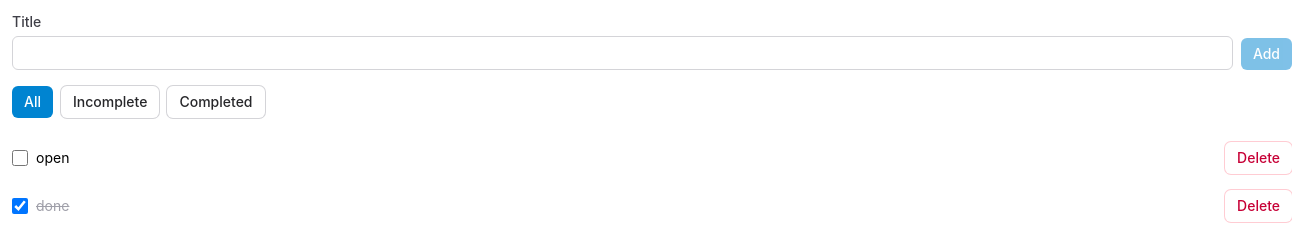
Test: TodoList › filters incomplete items
The image size is (1304, 240).
Expected: the checkbox labelled "open" is shown, [12,150,28,166]
Click the button "Incomplete": (110, 102) [61,86,160,118]
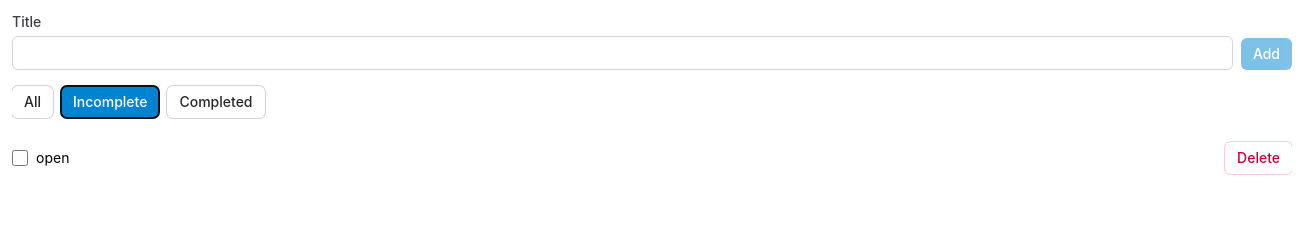
Expected: the checkbox labelled "open" is shown, [12,150,28,166]
Now the label "done" is gone
